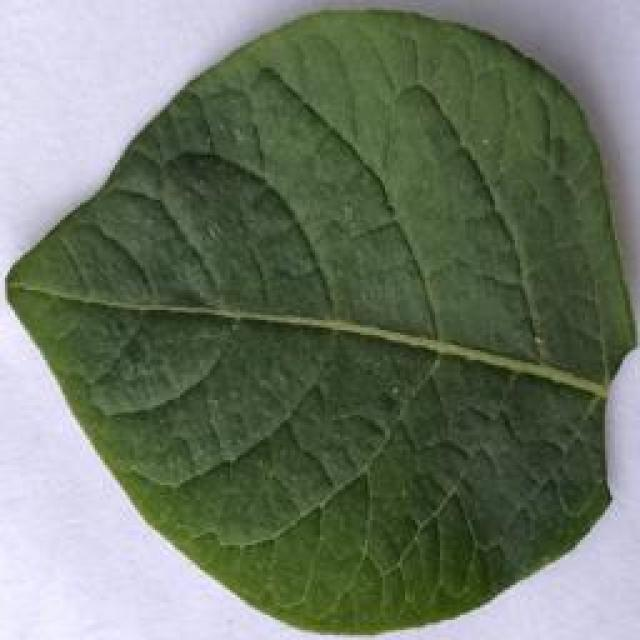Potato_Healthy: (3, 8, 620, 631)
